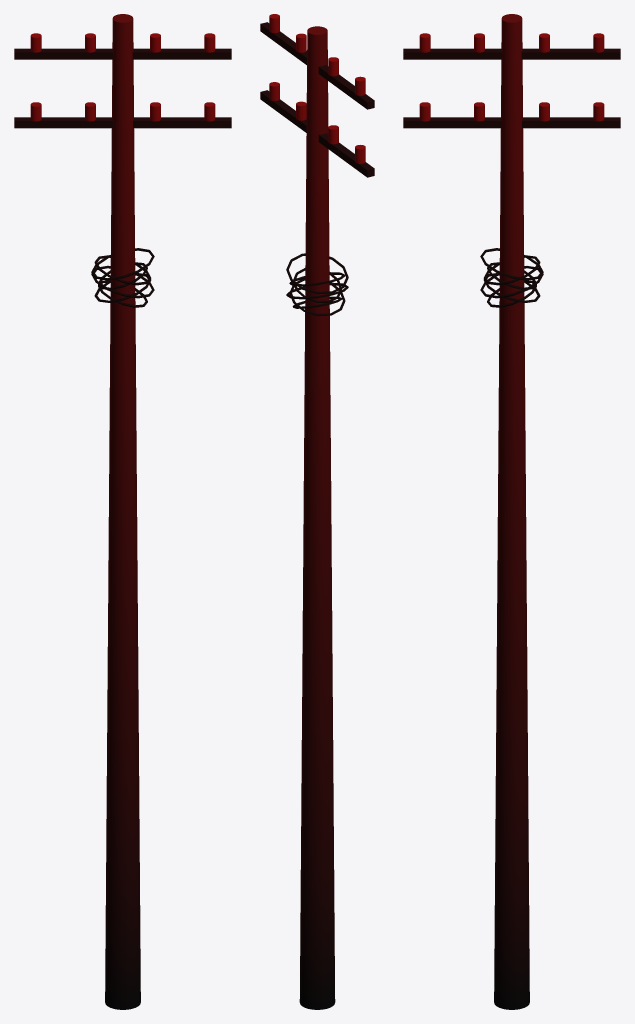
The model's file is cot_dien_12m.glb.
The picture shows the model from 3 angles, left to right: view 1: azimuth 90°, elevation 25°; view 2: azimuth 210°, elevation 25°; view 3: azimuth 270°, elevation 25°; orthographic projection.
Parts seen in each view (by area): view 1: cot_dien_12m; view 2: cot_dien_12m; view 3: cot_dien_12m.
Boxes of the visible parts, box(x1,y1,x2,y2) form: cot_dien_12m: box(14, 14, 231, 1009); cot_dien_12m: box(260, 14, 374, 1009); cot_dien_12m: box(403, 14, 620, 1009).
Size of the model in its own units: 0.5838 by 10 by 2.
